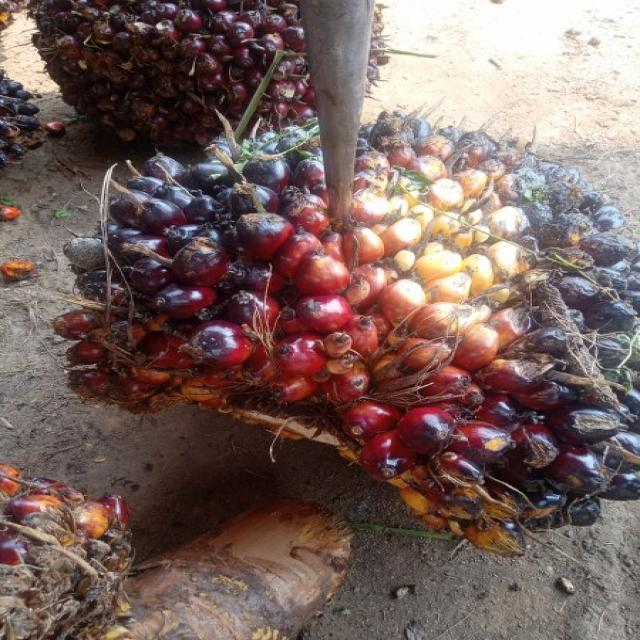fraksi 00: (60, 106, 640, 534)
